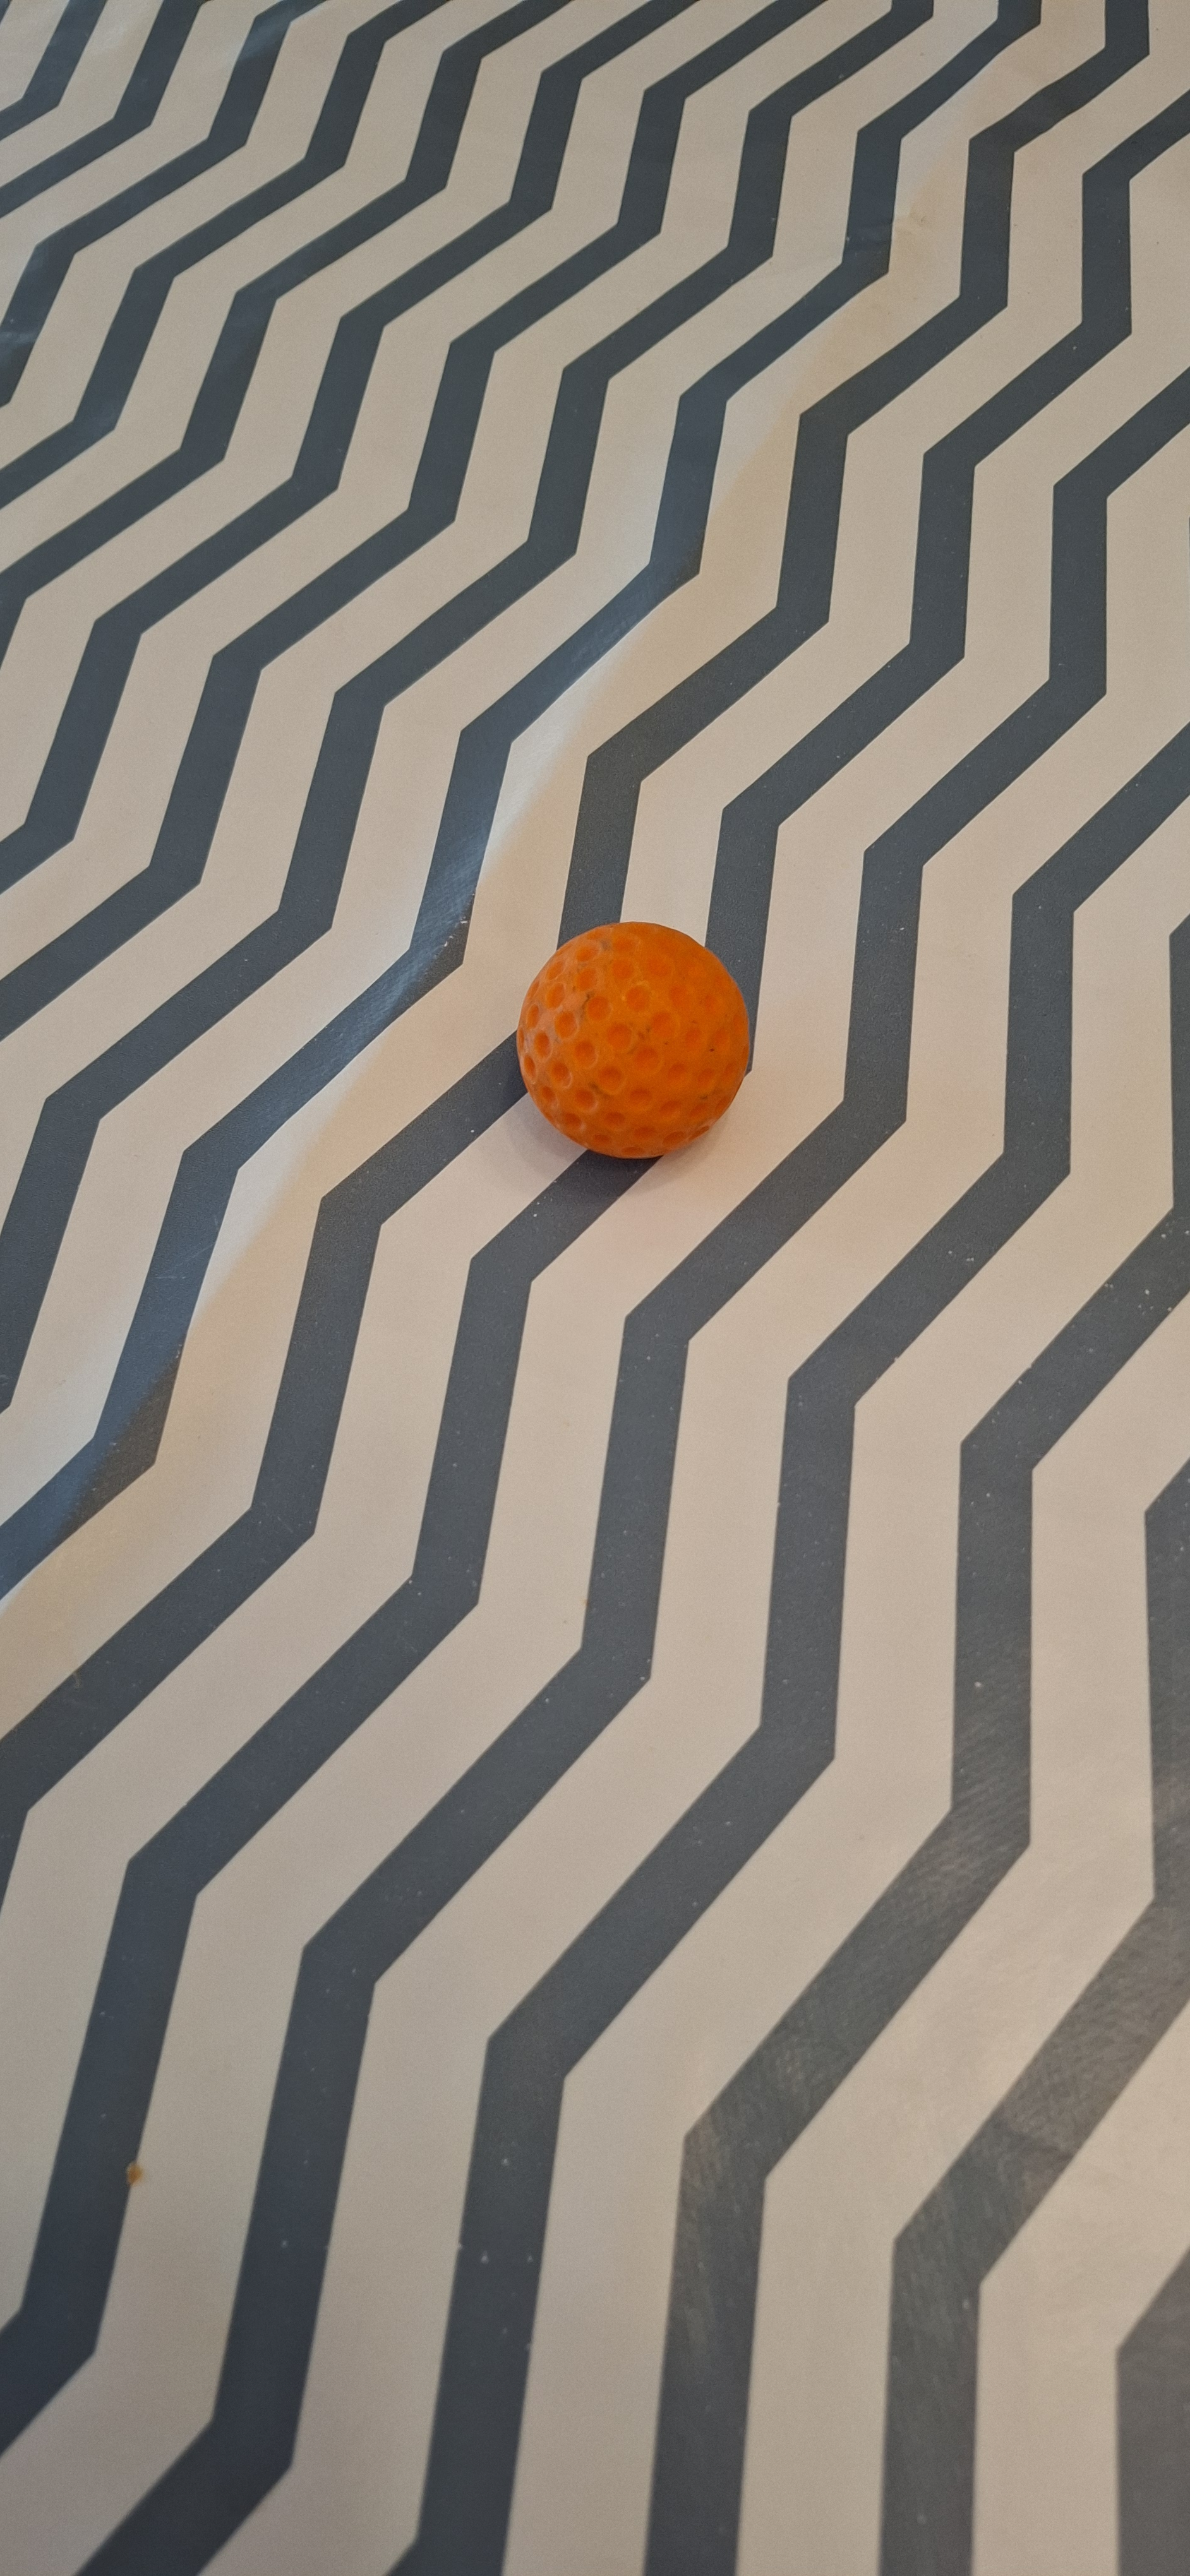ball: (422, 941, 539, 1479)
